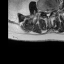CCS_normal: (47, 7, 49, 19)
LFS_stenosis: (51, 7, 54, 13)
LLS_normal: (49, 8, 51, 14)
RFS_stenosis: (41, 7, 44, 13)
RLS_normal: (44, 7, 47, 15)
